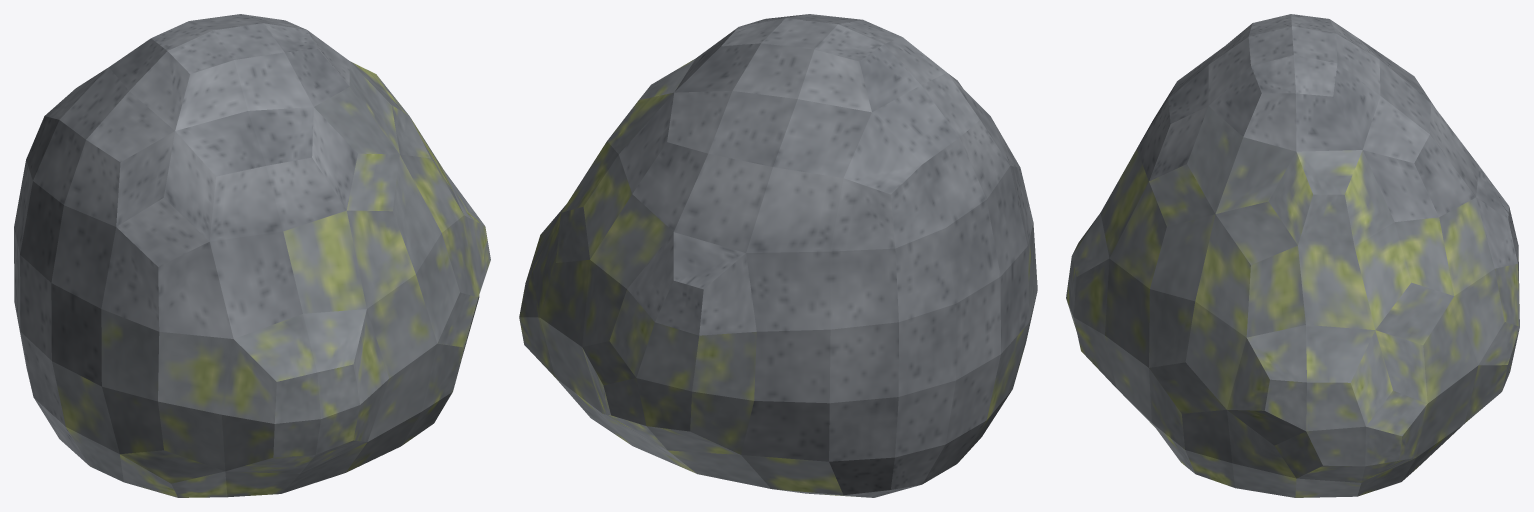
Rendered from rock_small.glb.
3 renders of one model, left to right at view 1: azimuth 30°, elevation 25°; view 2: azimuth 150°, elevation 25°; view 3: azimuth 270°, elevation 25°, orthographic. The views are drawn at different scales.
Parts seen in each view (by area): view 1: wilds_rock_small; view 2: wilds_rock_small; view 3: wilds_rock_small.
Part boxes in pixels (<box>): wilds_rock_small: <box>14,14,490,497</box>; wilds_rock_small: <box>519,14,1037,497</box>; wilds_rock_small: <box>1066,14,1519,497</box>.
Bounding box in the file's own units: 0.294 × 0.2875 × 0.2832.
1 material, 1 textured.
